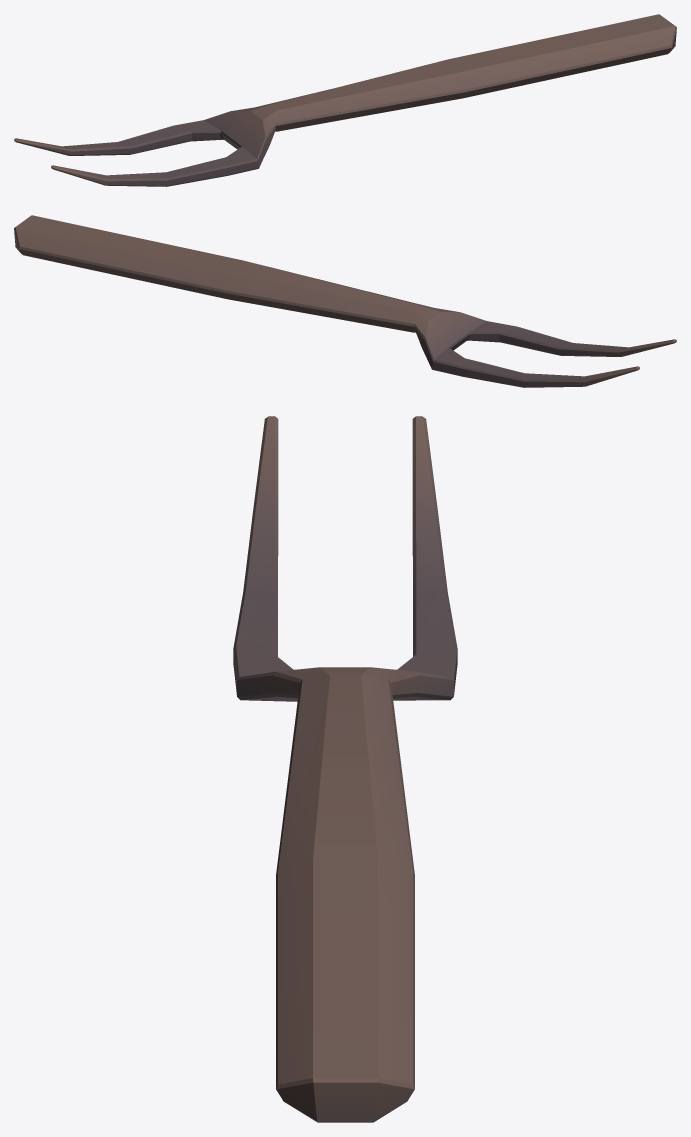
The model's file is SM_Fork.fbx.
3 views of the same model, one above another, from view 1: azimuth 30°, elevation 25°; view 2: azimuth 150°, elevation 25°; view 3: azimuth 270°, elevation 25° (orthographic). The views are drawn at different scales.
Visible parts, largest first — view 1: fork; view 2: fork; view 3: fork.
Boxes of the visible parts, bbox=[...] form: fork: bbox=[14, 14, 676, 186]; fork: bbox=[14, 215, 676, 387]; fork: bbox=[233, 416, 457, 1122].
Size of the model in its own units: 32.29 by 2.2 by 4.94.
